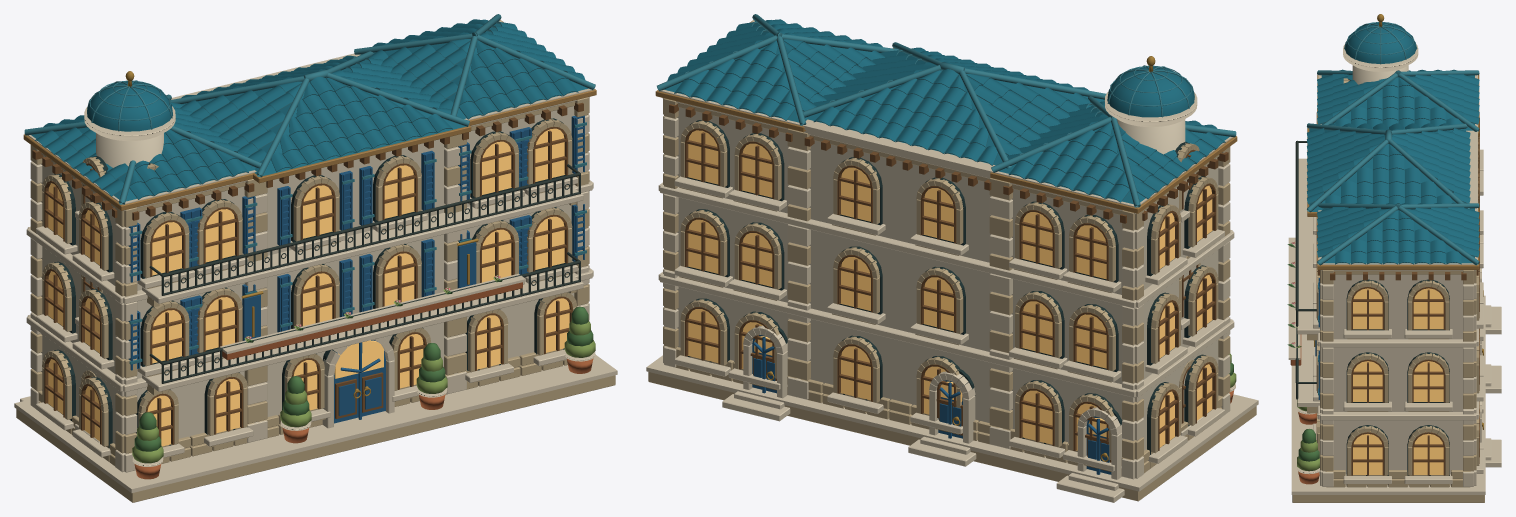
3 renders of one model, left to right at view 1: azimuth 30°, elevation 25°; view 2: azimuth 150°, elevation 25°; view 3: azimuth 270°, elevation 25°, orthographic. The views are drawn at different scales.
Visible parts, largest first — view 1: harbor_skyscraper_2_geometry; view 2: harbor_skyscraper_2_geometry; view 3: harbor_skyscraper_2_geometry.
Boxes of the visible parts, x1,y1,x2,y2 form: harbor_skyscraper_2_geometry: [14, 14, 617, 502]; harbor_skyscraper_2_geometry: [646, 14, 1258, 502]; harbor_skyscraper_2_geometry: [1287, 14, 1501, 502].
Bounding box in the file's own units: 1.56 × 1.17 × 0.7238.
